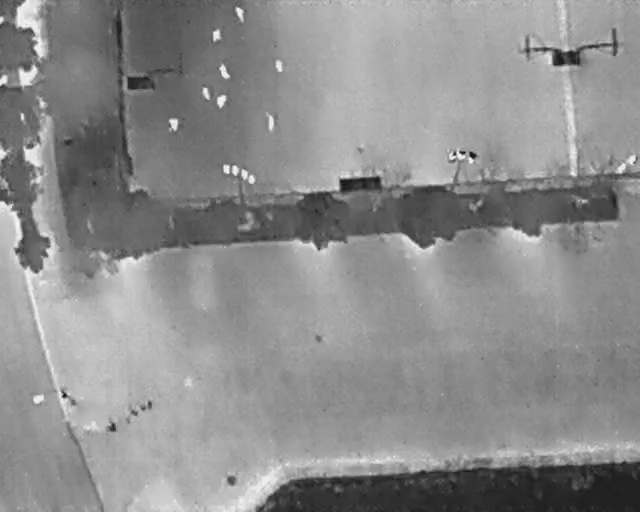Person: (218, 62, 231, 80), (235, 4, 246, 24), (216, 92, 227, 109), (266, 111, 275, 131), (168, 116, 179, 132), (614, 162, 627, 174), (627, 153, 638, 167), (212, 27, 222, 42), (201, 85, 210, 100), (274, 58, 283, 72)
